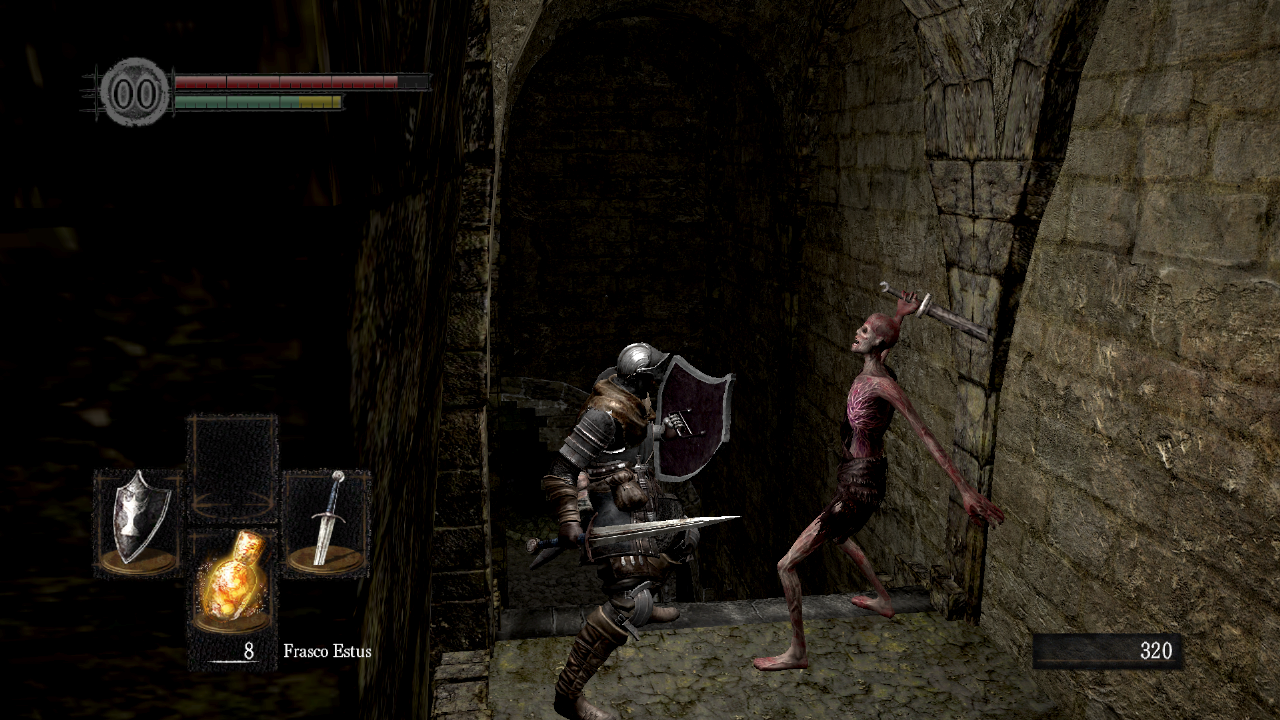hollow: (752, 281, 1006, 671)
player: (526, 342, 743, 720)
